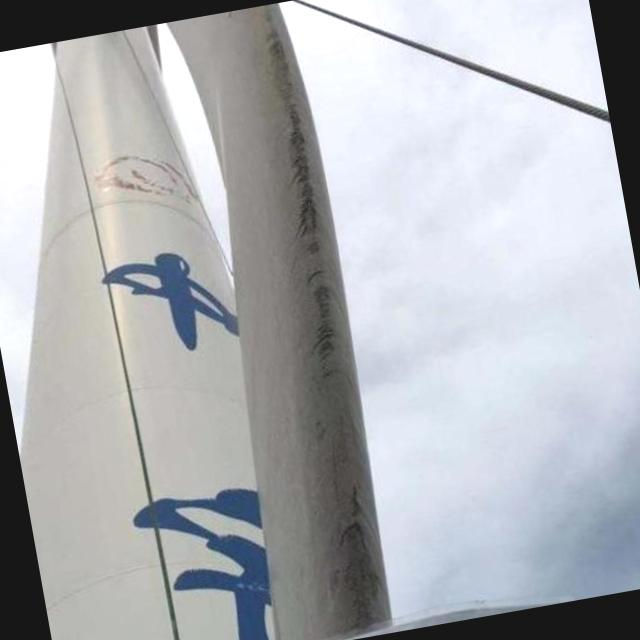corrosion: (246, 15, 356, 380), (320, 477, 392, 636)
